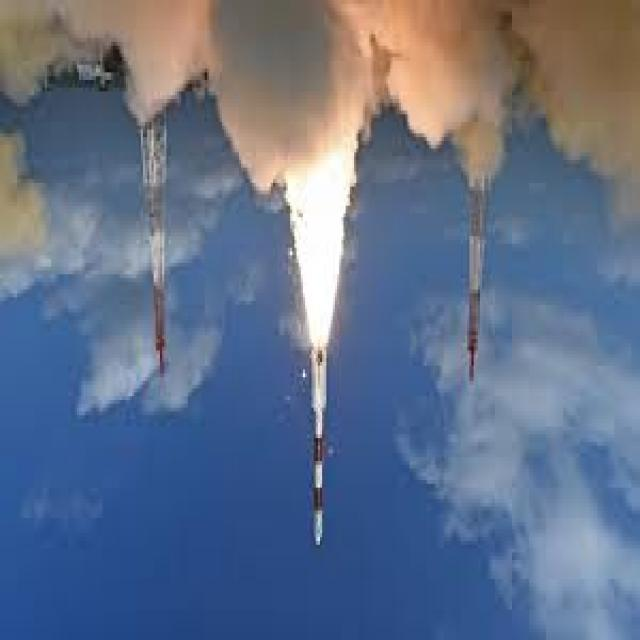Missile: (304, 330, 331, 551)
